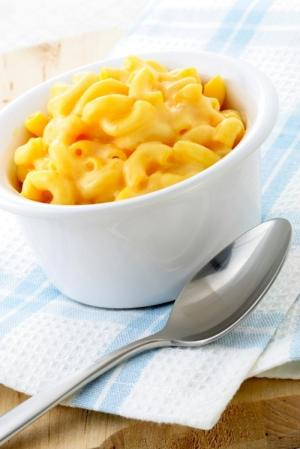macncheese: (11, 65, 246, 204)
